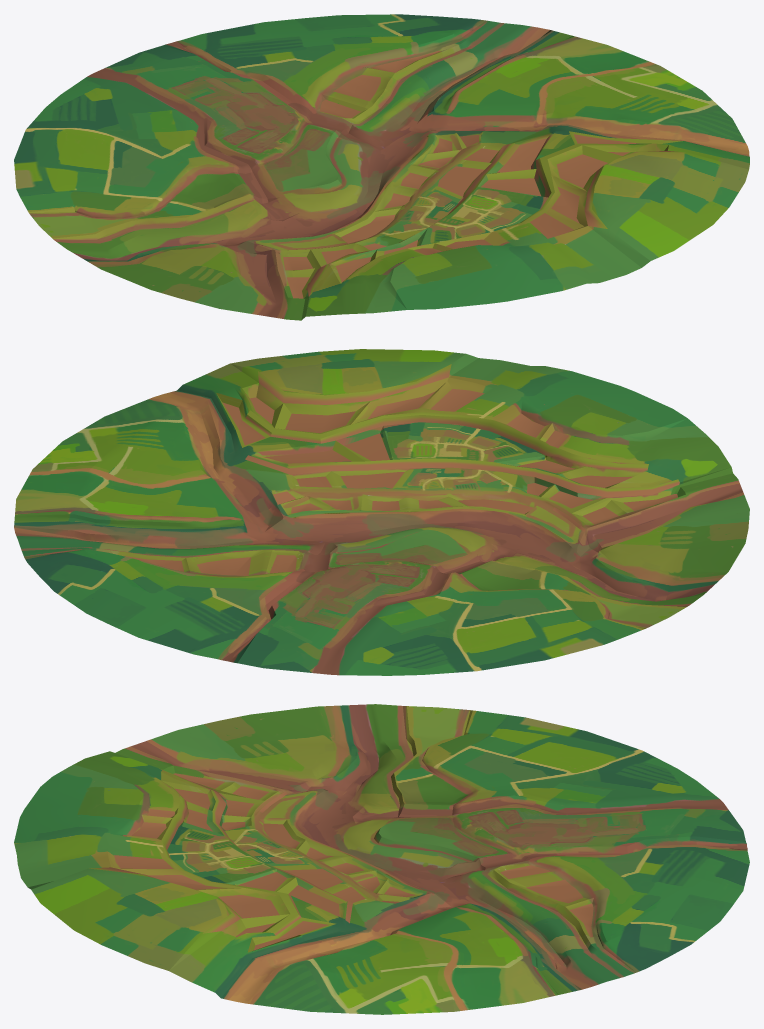
The model's file is SM_Terrain_V3.fbx.
3 renders of one model, top to bottom at view 1: azimuth 30°, elevation 25°; view 2: azimuth 150°, elevation 25°; view 3: azimuth 270°, elevation 25°, orthographic.
Parts seen in each view (by area): view 1: Terrain_Base; view 2: Terrain_Base; view 3: Terrain_Base.
Boxes of the visible parts, <box> form: Terrain_Base: <box>14,14,749,320</box>; Terrain_Base: <box>14,349,749,675</box>; Terrain_Base: <box>14,704,749,1014</box>.
Size of the model in its own units: 4869 by 384 by 4873.
